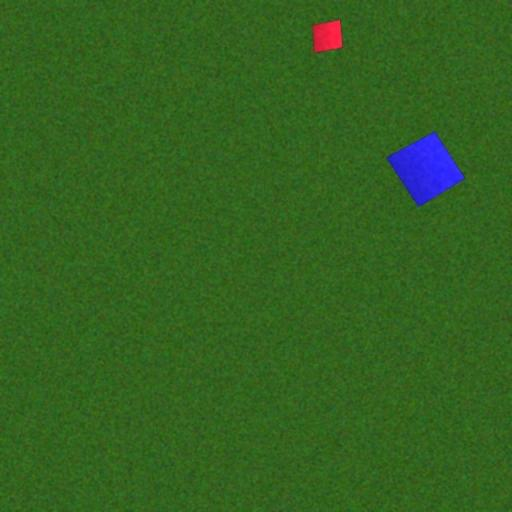BLUE_SQUARE: (385, 130, 466, 208)
RED_SQUARE: (312, 19, 343, 54)
